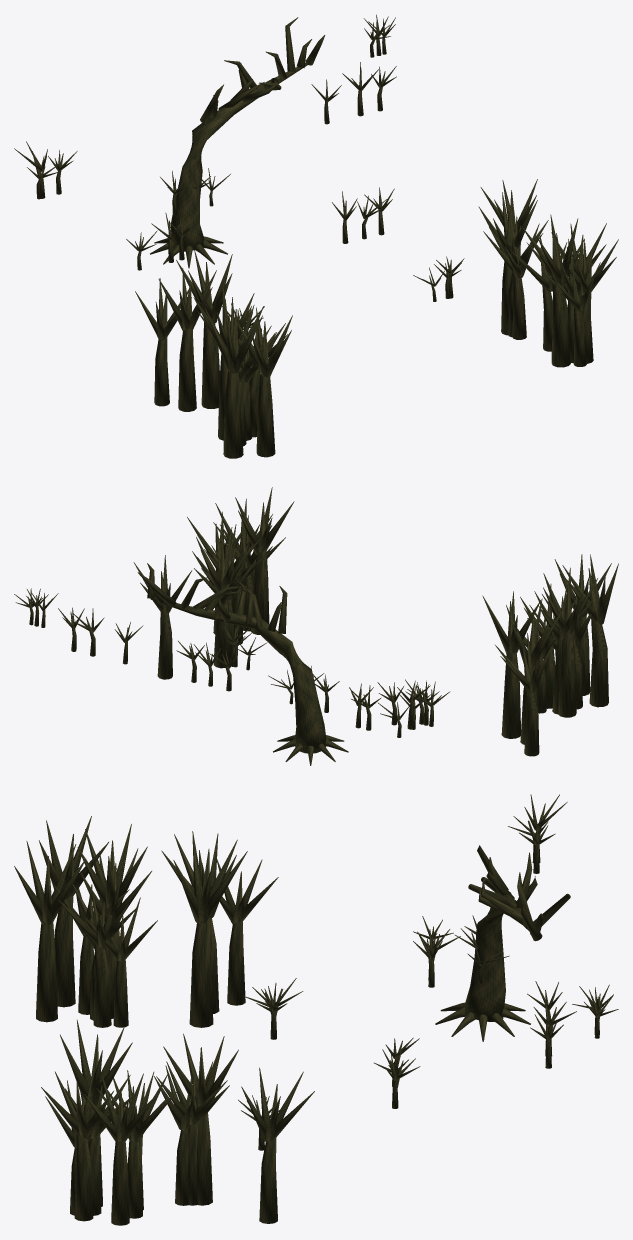
File: SM_DBA_Sanctuary_Trees.fbx
The picture shows the model from 3 angles, top to bottom: view 1: azimuth 30°, elevation 25°; view 2: azimuth 150°, elevation 25°; view 3: azimuth 270°, elevation 25°; orthographic projection. The views are drawn at different scales.
Visible parts, largest first — view 1: SM_DBA_Sanctuary_Trees; view 2: SM_DBA_Sanctuary_Trees; view 3: SM_DBA_Sanctuary_Trees.
Part boxes in pixels (bbox=[...]): SM_DBA_Sanctuary_Trees: bbox=[14, 14, 618, 458]; SM_DBA_Sanctuary_Trees: bbox=[14, 487, 618, 765]; SM_DBA_Sanctuary_Trees: bbox=[14, 794, 618, 1225].
Bounding box in the file's own units: 4863 × 4985 × 2452.
